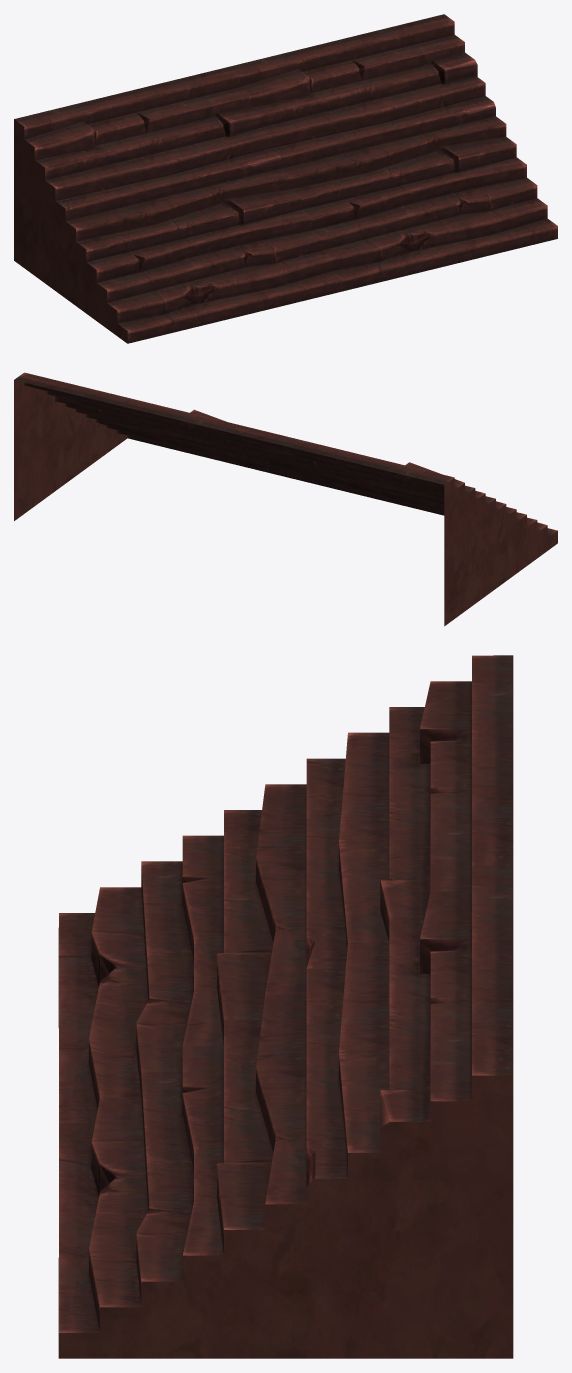
The model's file is lava_stair_halfdouble_01.fbx.
3 views of the same model, one above another, from view 1: azimuth 30°, elevation 25°; view 2: azimuth 150°, elevation 25°; view 3: azimuth 270°, elevation 25° (orthographic). The views are drawn at different scales.
Visible parts, largest first — view 1: obj1.033; view 2: obj1.033; view 3: obj1.033.
Part boxes in pixels (x1,y1,x2,y2): obj1.033: [14, 14, 557, 343]; obj1.033: [14, 372, 557, 626]; obj1.033: [58, 655, 513, 1358].
Size of the model in its own units: 8.75 by 2.75 by 4.
